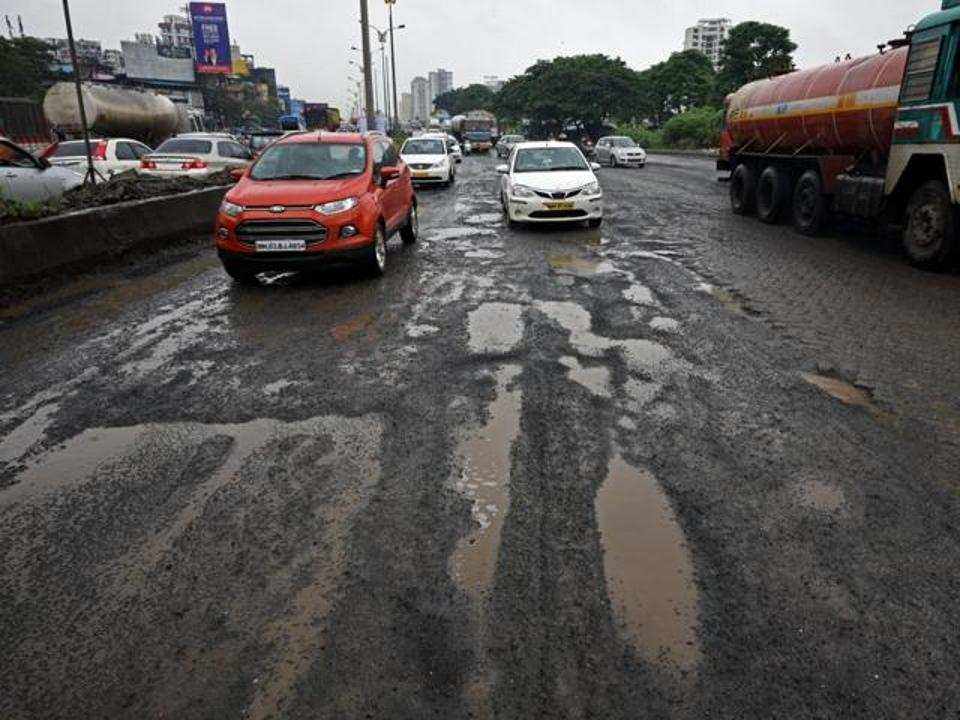pothole: (573, 421, 736, 662), (802, 300, 878, 428), (452, 273, 541, 352)
